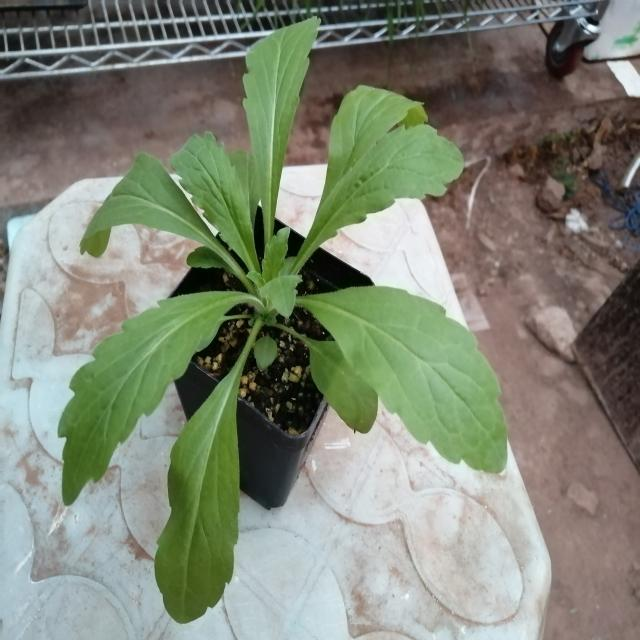horseweed: (93, 46, 510, 528)
